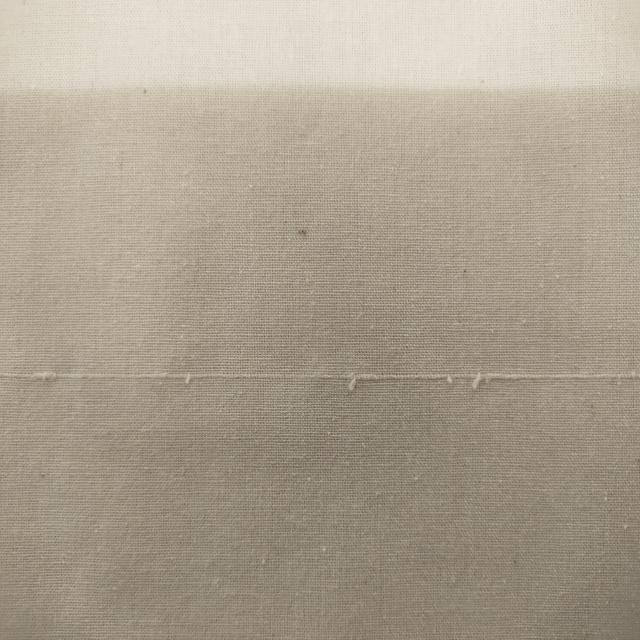Thread_other: (13, 309, 640, 463)
